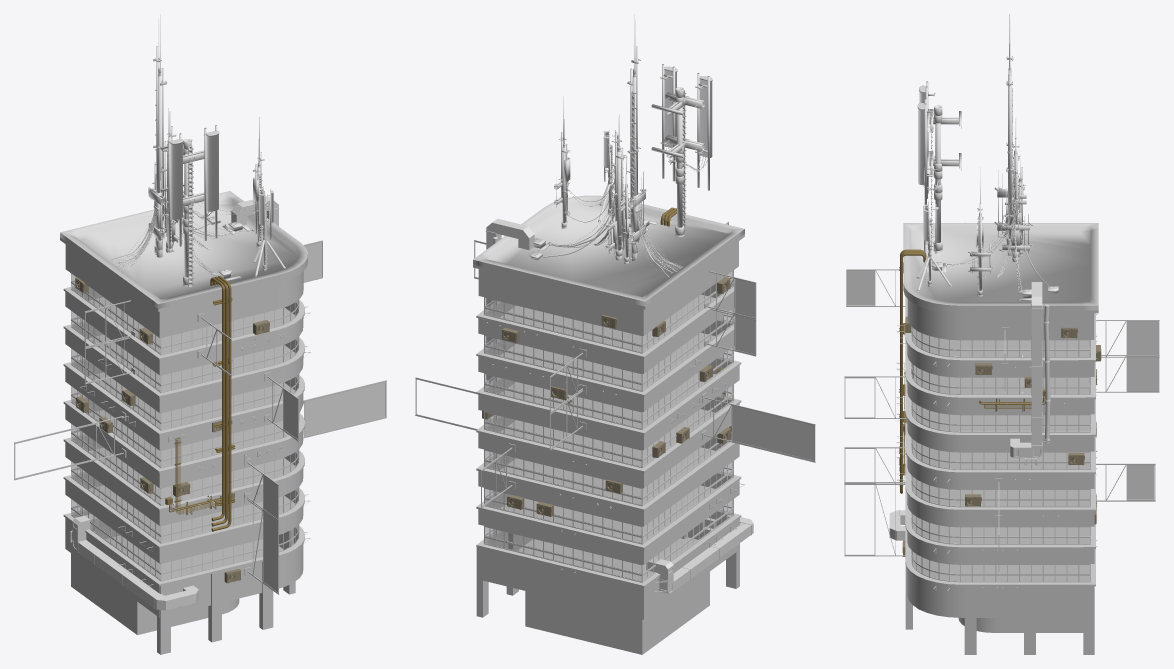
The model's file is portbuildings.glb.
The picture shows the model from 3 angles, left to right: view 1: azimuth 30°, elevation 25°; view 2: azimuth 150°, elevation 25°; view 3: azimuth 270°, elevation 25°; orthographic projection. The views are drawn at different scales.
Visible parts, largest first — view 1: Building, Window, artwork_apot_K, artwork_apot_C, artwork_apot_D, artwork_apot_L; view 2: Building, Window, artwork_apot_M, artwork_apot_O, artwork_apot_N; view 3: Building, Window, artwork_apot_H, artwork_apot_J, artwork_apot_I, artwork_apot_E.
Part boxes in pixels (x1=…): Building: x1=14, y1=14, x2=386, y2=654; Window: x1=71, y1=274, x2=297, y2=579; artwork_apot_K: x1=305, y1=382, x2=385, y2=435; artwork_apot_C: x1=263, y1=512, x2=277, y2=591; artwork_apot_D: x1=283, y1=390, x2=297, y2=439; artwork_apot_L: x1=303, y1=242, x2=321, y2=280; Building: x1=415, y1=14, x2=815, y2=654; Window: x1=484, y1=271, x2=733, y2=581; artwork_apot_M: x1=732, y1=406, x2=814, y2=460; artwork_apot_O: x1=735, y1=279, x2=754, y2=317; artwork_apot_N: x1=735, y1=316, x2=754, y2=354; Building: x1=844, y1=14, x2=1159, y2=654; Window: x1=913, y1=328, x2=1090, y2=580; artwork_apot_H: x1=1127, y1=321, x2=1158, y2=354; artwork_apot_J: x1=1127, y1=357, x2=1158, y2=390; artwork_apot_I: x1=1127, y1=465, x2=1154, y2=499; artwork_apot_E: x1=847, y1=271, x2=874, y2=304.
Size of the model in its own units: 21.28 by 31.32 by 15.26.
Materials: 10 (3 with a texture image).
